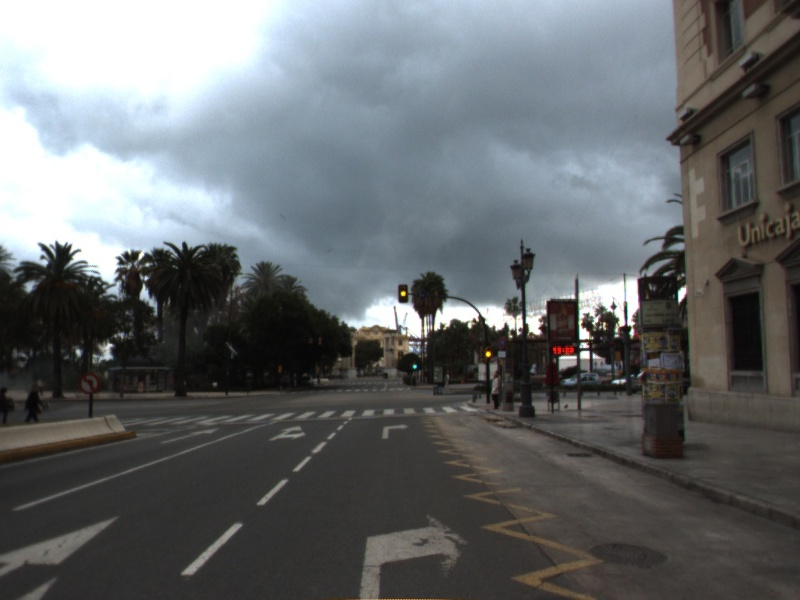RIGHT: (353, 509, 474, 600), (380, 421, 412, 441)
STRAIGHT: (1, 511, 124, 586), (157, 425, 222, 445)
STRAIGHT_RIGHT: (266, 423, 308, 443)
